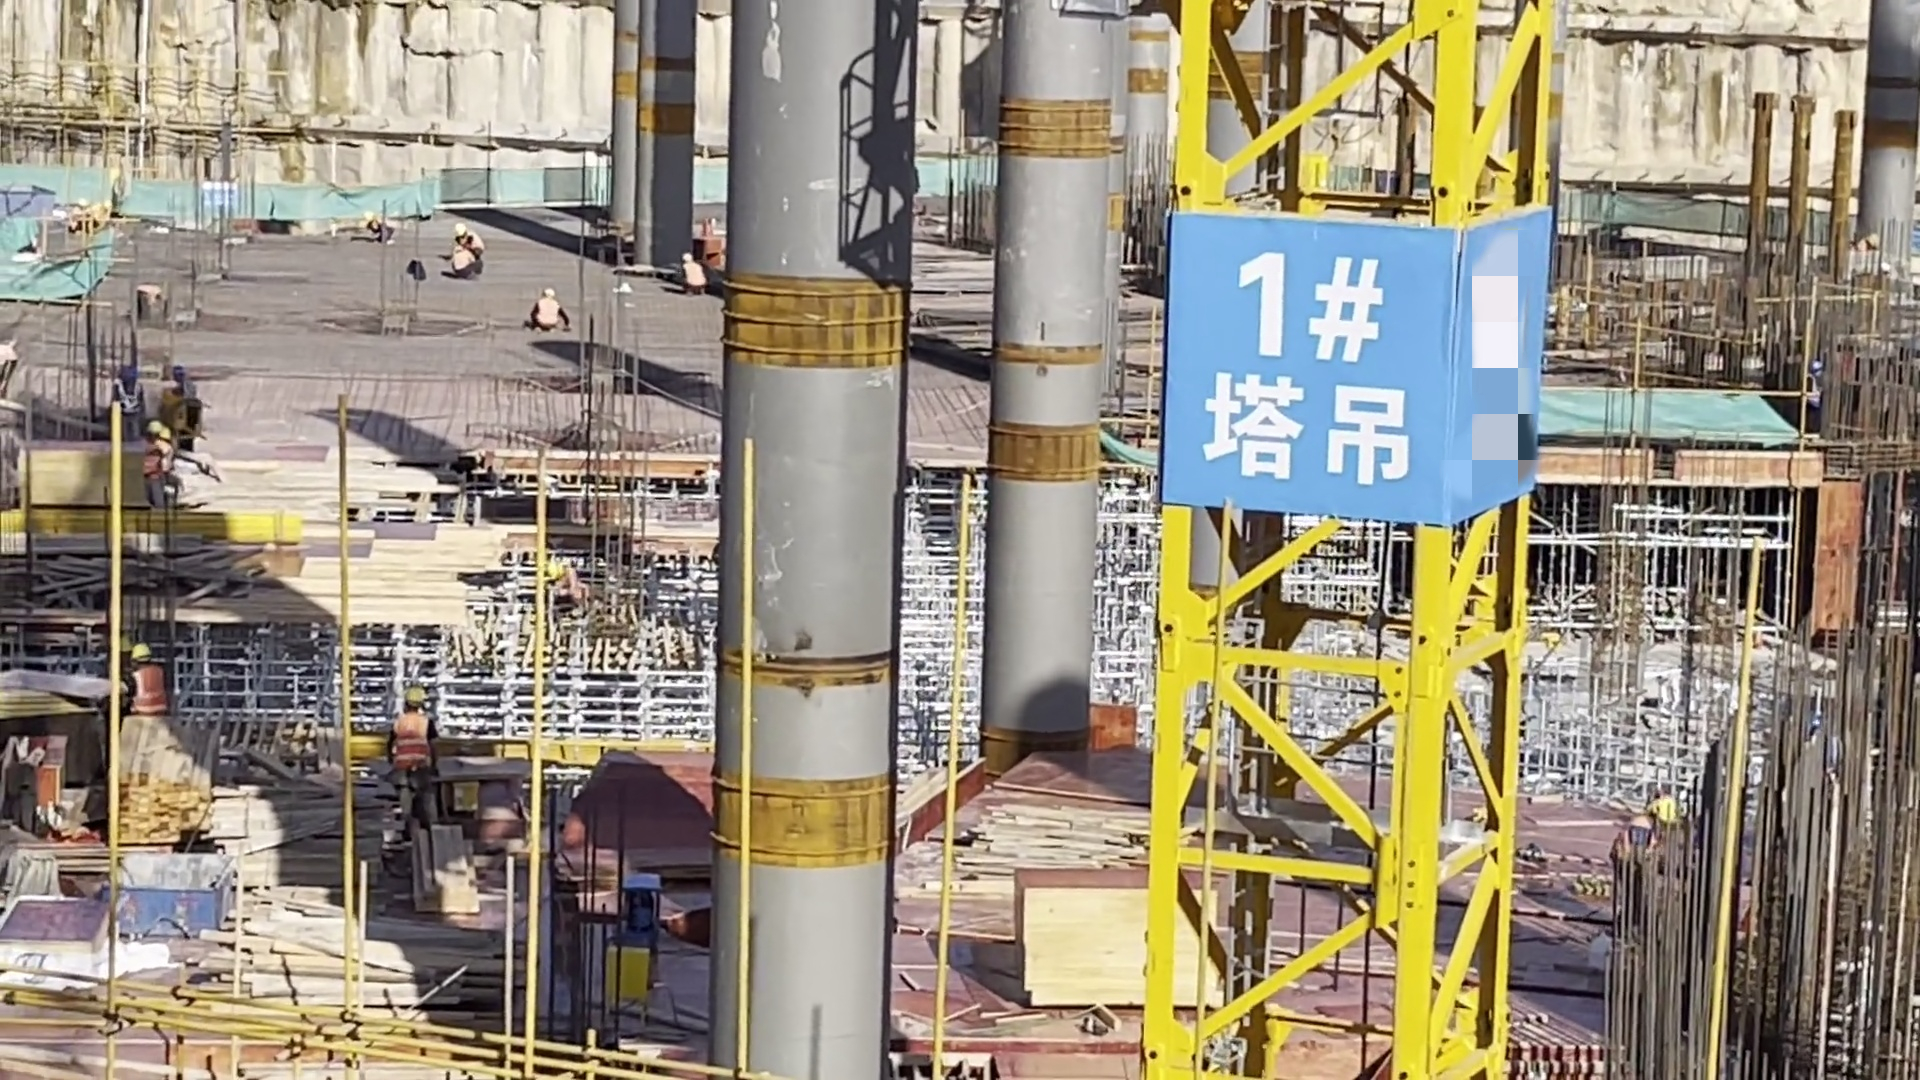board: (1011, 856, 1256, 1022), (9, 438, 145, 529)
helmet: (402, 689, 428, 713), (131, 645, 154, 668), (144, 416, 164, 437), (1808, 360, 1825, 380), (455, 222, 471, 240), (542, 287, 558, 301), (682, 252, 694, 262)
hopper: (115, 846, 243, 941)
person: (387, 683, 445, 844), (119, 643, 175, 724), (516, 286, 583, 343), (168, 354, 213, 435), (110, 365, 149, 443), (141, 412, 170, 515), (1806, 354, 1829, 445), (679, 251, 715, 299), (452, 222, 493, 262), (361, 208, 395, 248), (444, 247, 479, 284)
slogan: (1187, 228, 1540, 485)
vest: (389, 711, 436, 774), (130, 662, 168, 719), (112, 381, 146, 419), (139, 440, 167, 481), (536, 302, 560, 327)
wood: (226, 892, 504, 1019), (108, 719, 216, 852), (418, 821, 480, 920)
